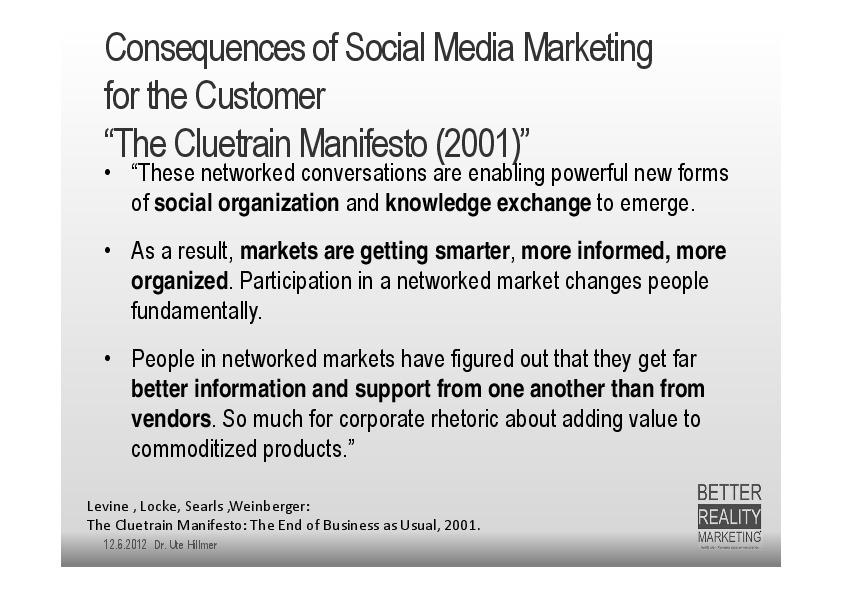paragraph: (82, 156, 783, 485)
subtitle: (80, 490, 501, 576)
title: (96, 26, 710, 161)
